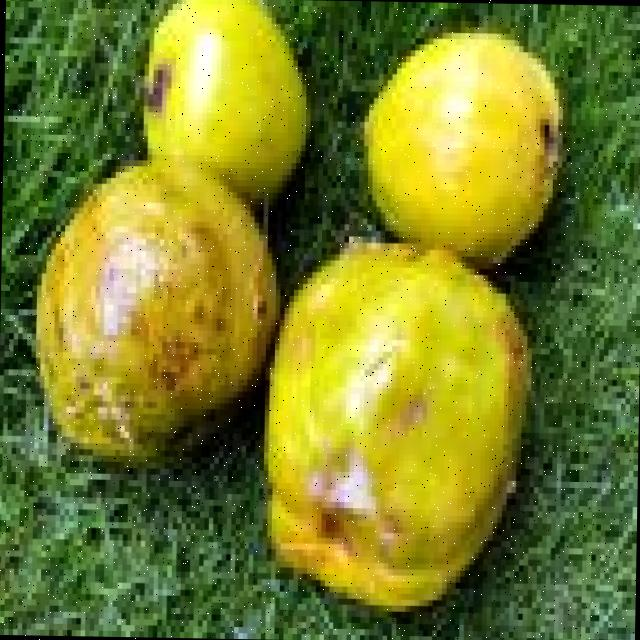Bad_Guava 0 day: (32, 160, 531, 617)
Good_Guava 5-7 days: (367, 32, 563, 269), (143, 0, 310, 216)
